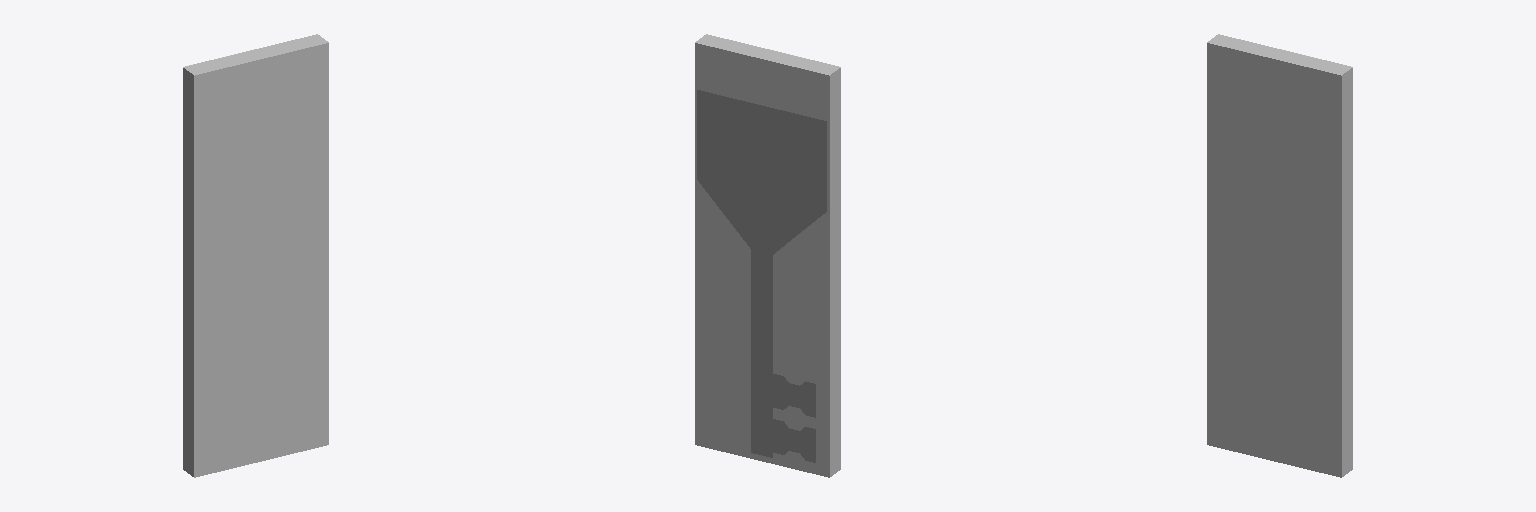
Rendered from zm_perk_key_doubletap.obj.
3 views of the same model, side by side, from view 1: azimuth 30°, elevation 25°; view 2: azimuth 150°, elevation 25°; view 3: azimuth 330°, elevation 25° (orthographic).
Visible parts, largest first — view 1: c_box; view 2: c_box, g_key; view 3: c_box.
Part boxes in pixels (x1,y1,x2,y2): c_box: (183,34,328,477); c_box: (695,34,840,477); g_key: (697,90,826,462); c_box: (1207,34,1352,477).
Size of the model in its own units: 7.5 by 21.38 by 1.12.